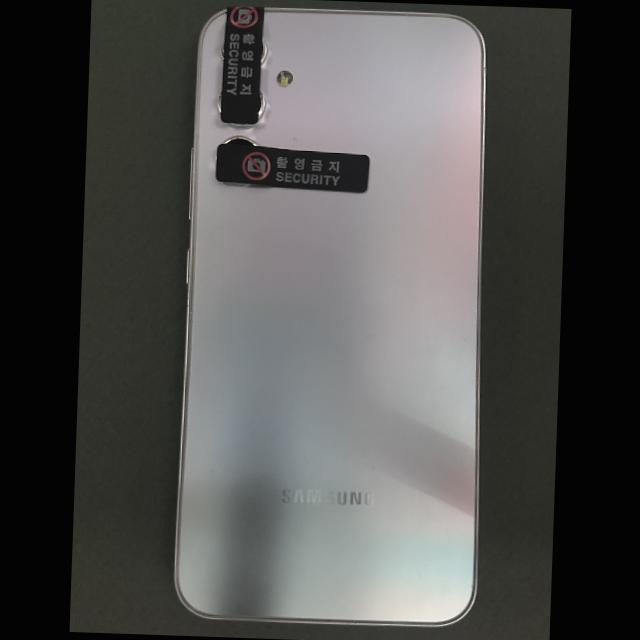lens: (222, 136, 259, 147), (258, 92, 264, 119), (261, 40, 267, 64)
phone: (176, 7, 485, 624)
sticker: (215, 143, 369, 192), (220, 4, 264, 124)
